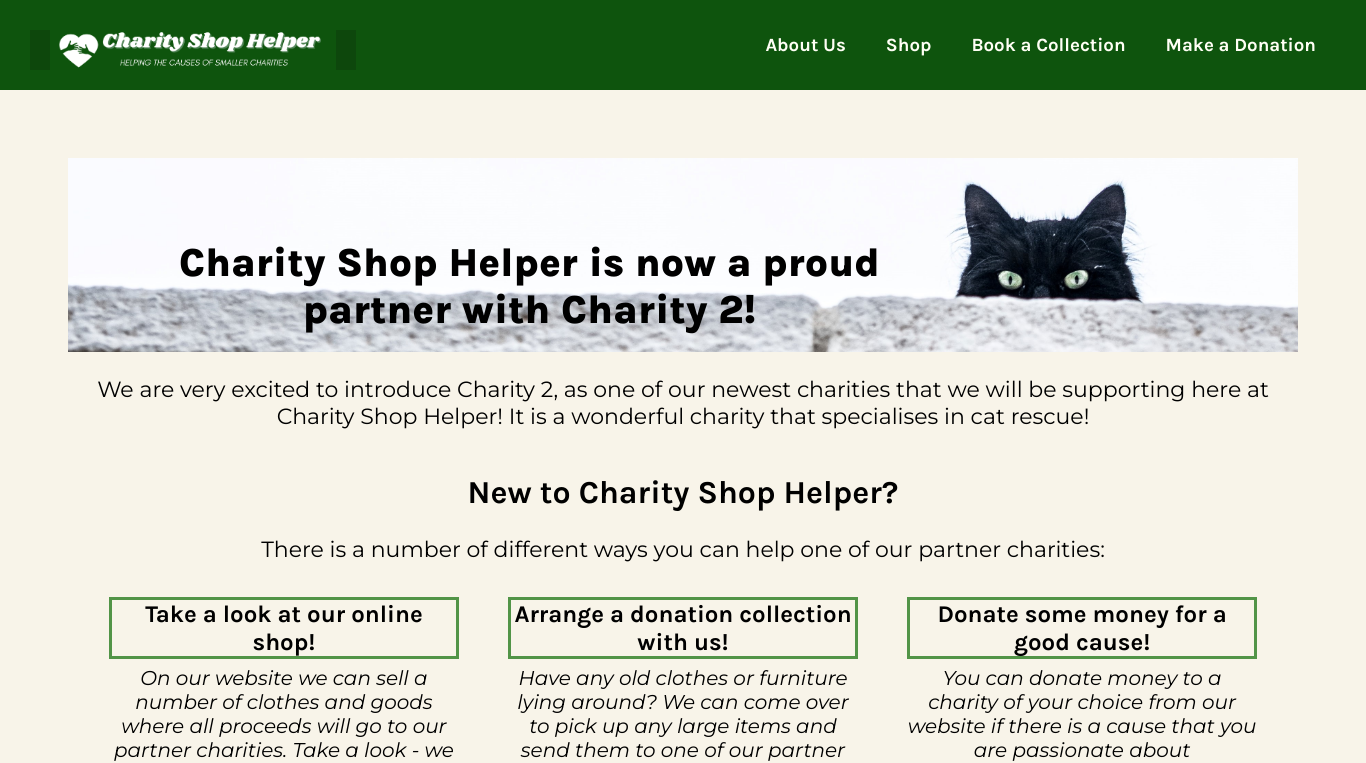
Test case: should present the about us page when the user selects the about us button
Click the link "About Us" at coordinates (806, 45), box [765,34,846,56]
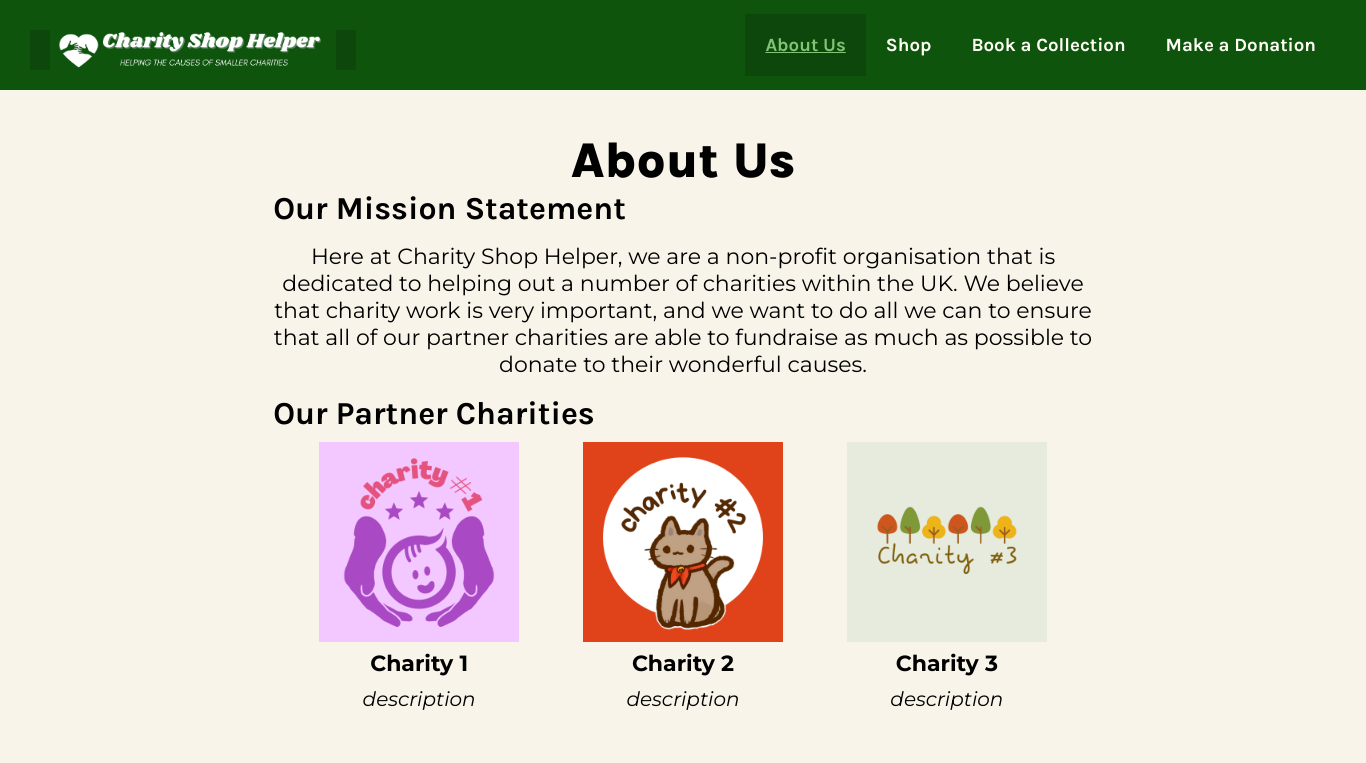
Result: the heading with test id "aboutTitle" is shown at [571,131,795,190]
